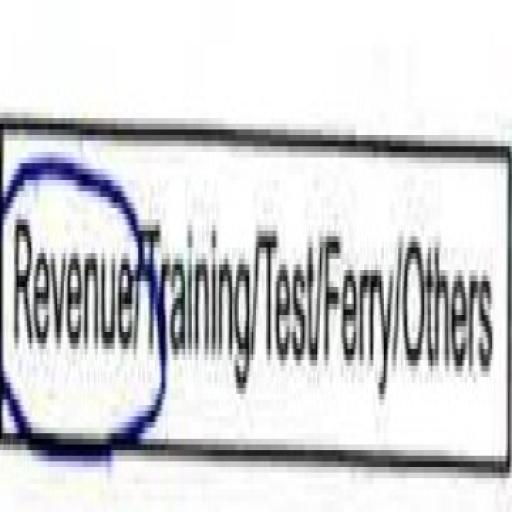check: (0, 22, 136, 512)
